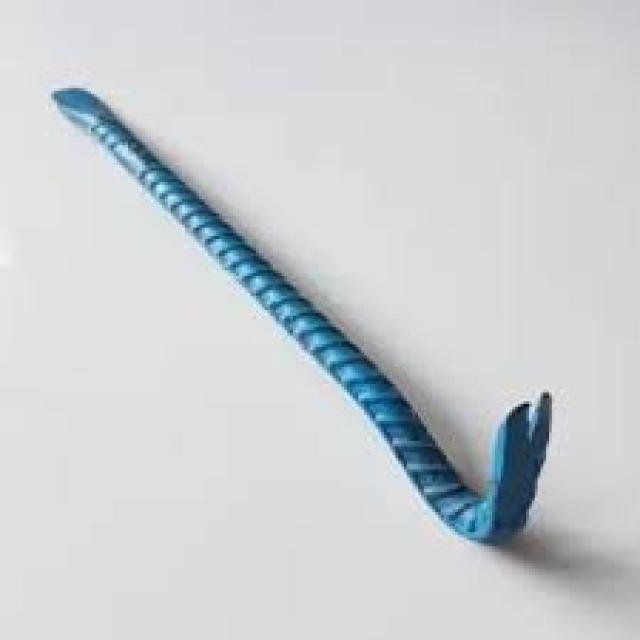Linggis: (41, 78, 564, 566)
